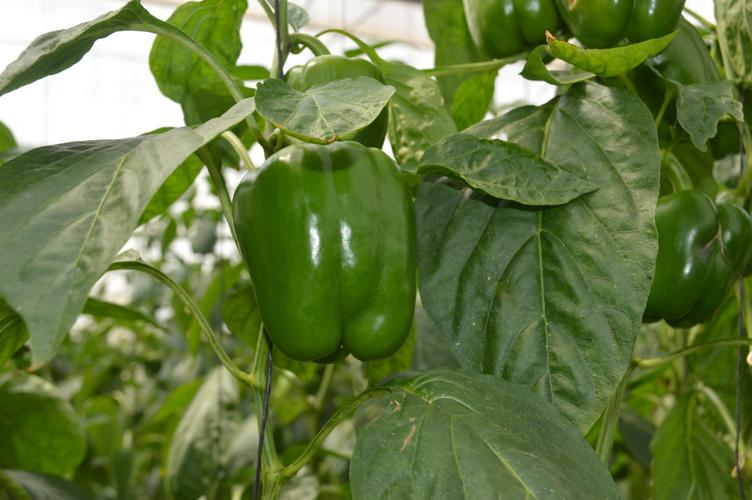BellPepper: (235, 141, 415, 364), (645, 192, 749, 330), (277, 54, 388, 150)
